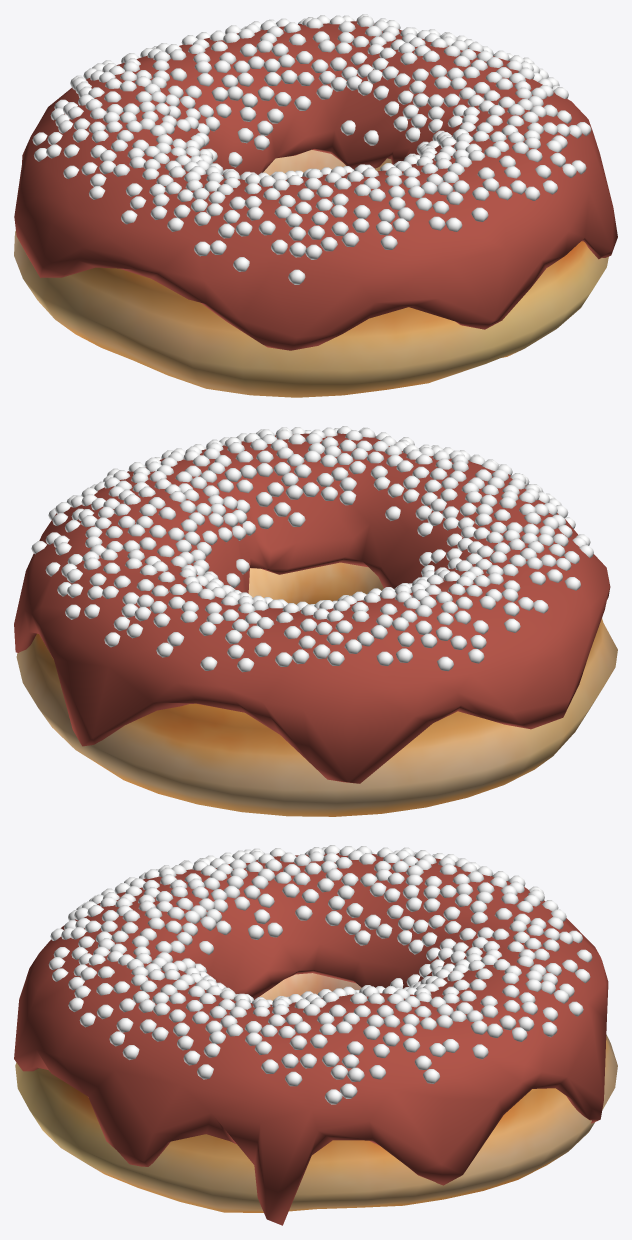
3 views of the same model, one above another, from view 1: azimuth 30°, elevation 25°; view 2: azimuth 150°, elevation 25°; view 3: azimuth 270°, elevation 25° (orthographic).
Parts seen in each view (by area): view 1: Torus.002, Torus.001; view 2: Torus.002, Torus.001; view 3: Torus.002, Torus.001.
Part boxes in pixels (x1,y1,x2,y2): Torus.002: (14,14,617,350); Torus.001: (14,149,608,397); Torus.002: (14,426,610,783); Torus.001: (16,562,617,816); Torus.002: (14,845,608,1225); Torus.001: (15,973,617,1212).
Size of the model in its own units: 2.46 by 0.907 by 2.42.
Materials: 3 (1 with a texture image).
